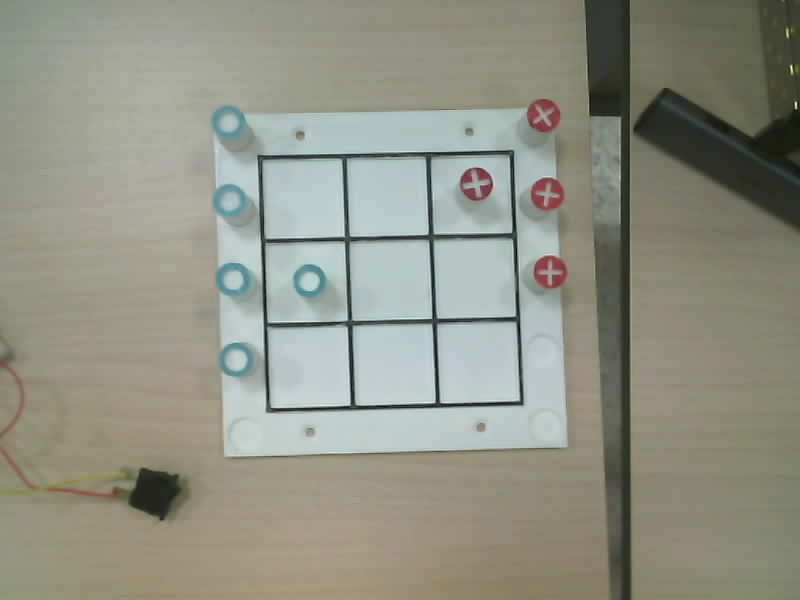blue circle: (216, 263, 251, 296), (219, 342, 252, 376), (211, 105, 245, 137), (212, 184, 245, 216), (293, 264, 325, 296)
board: (212, 100, 566, 455)
cells: (268, 326, 349, 408), (353, 324, 434, 405), (438, 322, 519, 403), (350, 240, 432, 320), (265, 242, 346, 322), (261, 159, 343, 238), (434, 238, 515, 317), (431, 156, 512, 233), (347, 158, 428, 235)
grid: (258, 150, 523, 411)
red cross: (533, 255, 567, 288), (459, 167, 492, 200), (531, 178, 564, 210), (527, 99, 560, 131)
